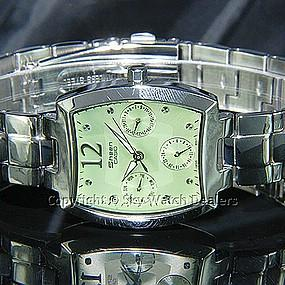watch: (59, 90, 229, 211)
